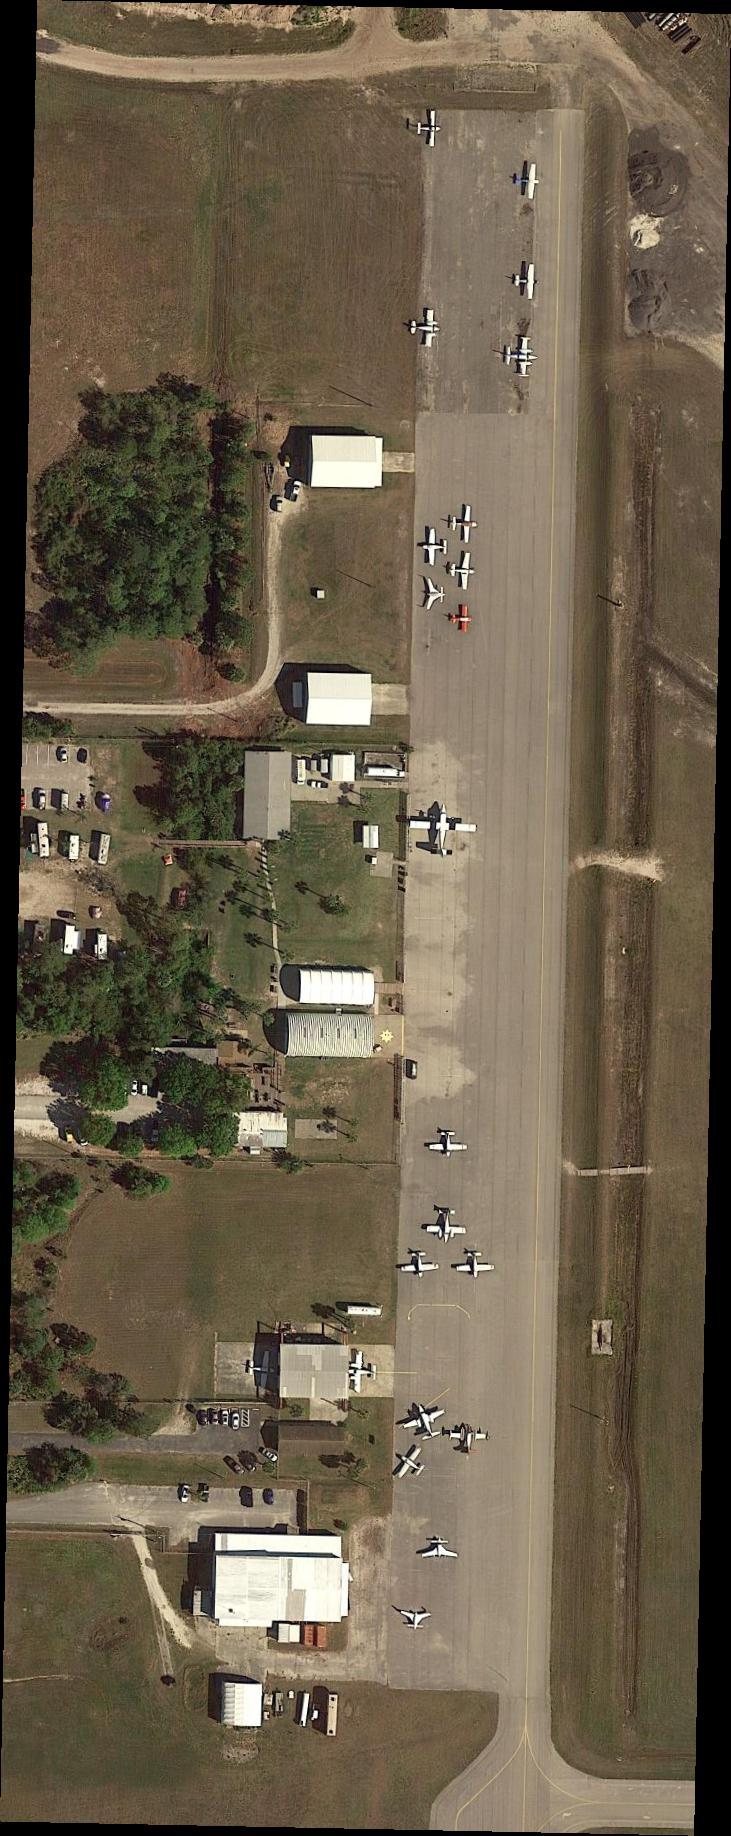plane: (407, 802, 477, 860), (397, 1398, 452, 1447), (390, 1441, 433, 1488), (426, 1208, 468, 1245), (503, 336, 538, 379), (348, 1350, 379, 1395), (408, 308, 442, 349), (244, 1349, 278, 1389), (447, 551, 479, 593), (450, 1424, 490, 1456), (402, 1250, 441, 1281), (429, 1129, 468, 1160), (450, 504, 480, 544), (457, 1252, 497, 1281), (513, 161, 542, 200), (512, 262, 540, 302), (422, 526, 449, 566), (417, 108, 442, 148), (421, 1536, 460, 1560), (400, 1609, 432, 1632), (426, 579, 446, 611), (452, 605, 473, 633)
ship: (264, 462, 278, 495)
